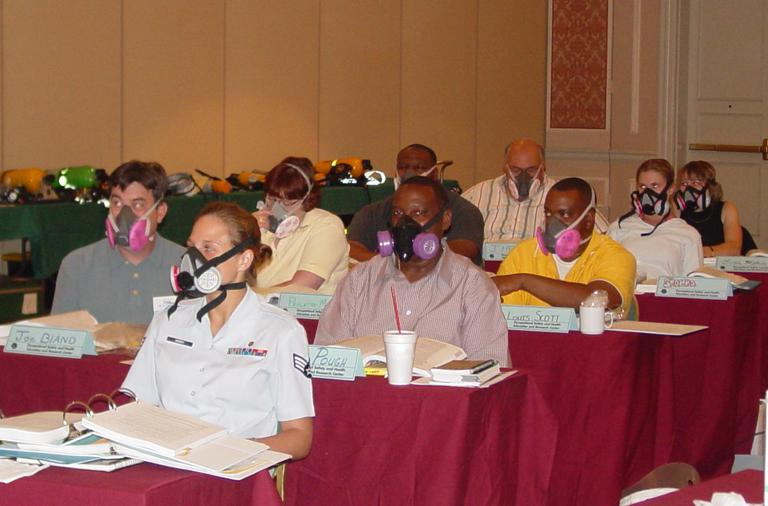OK: (184, 231, 242, 298), (105, 186, 163, 244), (390, 202, 442, 257), (538, 202, 585, 253), (266, 193, 307, 236), (505, 157, 544, 201), (395, 161, 436, 201), (634, 178, 673, 215), (680, 178, 710, 213)
